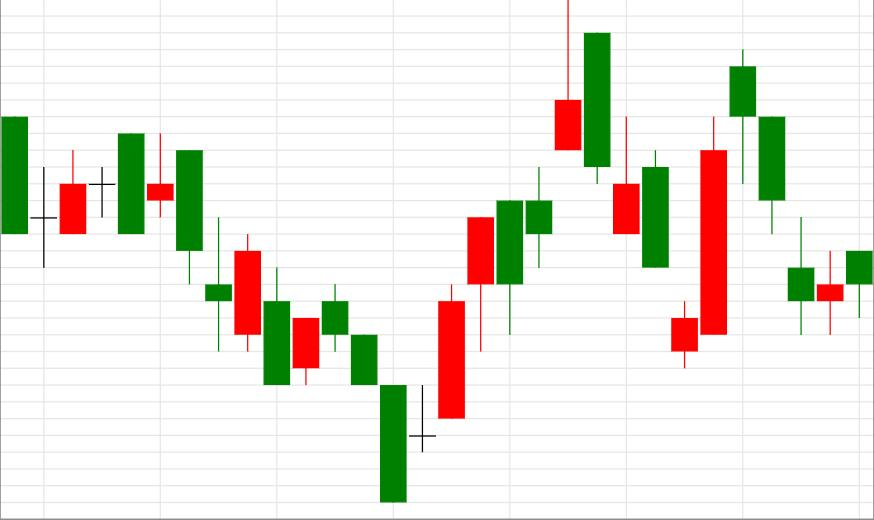shooting_star_fall: (438, 0, 582, 419)
